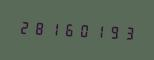eight: (32, 17, 46, 38)
nine: (107, 21, 121, 42)
one: (47, 18, 61, 39), (92, 20, 106, 41)
six: (62, 19, 76, 39)
three: (122, 22, 136, 43)
two: (17, 16, 31, 37)
zero: (77, 20, 91, 40)
